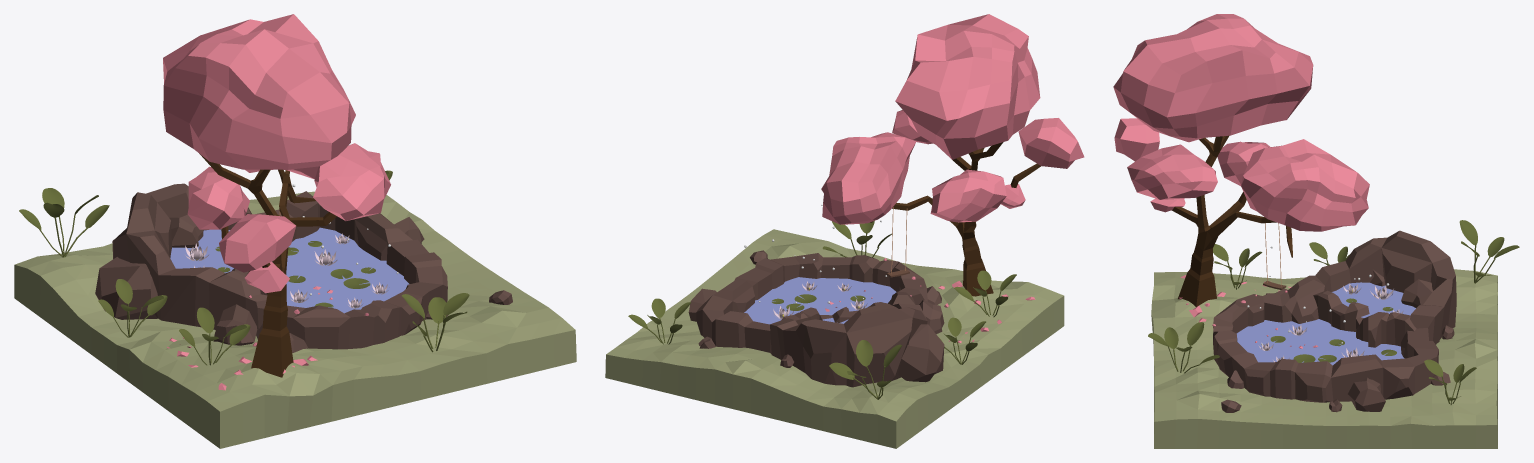
The model's file is spring pond.fbx.
3 views of the same model, side by side, from view 1: azimuth 30°, elevation 25°; view 2: azimuth 150°, elevation 25°; view 3: azimuth 270°, elevation 25° (orthographic). The views are drawn at different scales.
Parts seen in each view (by area): view 1: ground, tree tops, base rocks, water 1, rocks 2, Vert.003, water 2, Vert.002, Vert.004, Vert; view 2: ground, tree tops, base rocks, water 1, rocks 2, Vert.003, Vert.001, Vert.004, Vert, Vert.002; view 3: tree tops, ground, base rocks, water 1, rocks 2, water 2, Vert.002, Vert.003, Vert.001, Vert.004.
Boxes of the visible parts, <box> form: ground: <box>14,191,576,448</box>; tree tops: <box>163,14,390,377</box>; base rocks: <box>112,183,447,349</box>; water 1: <box>286,227,409,313</box>; rocks 2: <box>95,214,512,352</box>; Vert.003: <box>19,188,109,257</box>; water 2: <box>170,229,233,273</box>; Vert.002: <box>401,293,469,352</box>; Vert.004: <box>179,307,250,365</box>; Vert: <box>98,279,167,337</box>; ground: <box>605,229,1064,448</box>; tree tops: <box>821,14,1084,296</box>; base rocks: <box>696,253,927,387</box>; water 1: <box>744,277,896,324</box>; rocks 2: <box>688,250,944,382</box>; Vert.003: <box>829,340,902,399</box>; Vert.001: <box>628,298,691,344</box>; Vert.004: <box>954,270,1016,317</box>; Vert: <box>939,317,985,364</box>; Vert.002: <box>822,220,891,257</box>; tree tops: <box>1113,14,1369,306</box>; ground: <box>1151,269,1497,448</box>; base rocks: <box>1213,230,1456,402</box>; water 1: <box>1236,319,1404,365</box>; rocks 2: <box>1221,269,1454,412</box>; water 2: <box>1332,282,1415,318</box>; Vert.002: <box>1148,322,1219,373</box>; Vert.003: <box>1459,220,1519,283</box>; Vert.001: <box>1424,359,1476,404</box>; Vert.004: <box>1213,244,1262,289</box>.
Bounding box in the file's own units: 1110 × 1071 × 1274.
